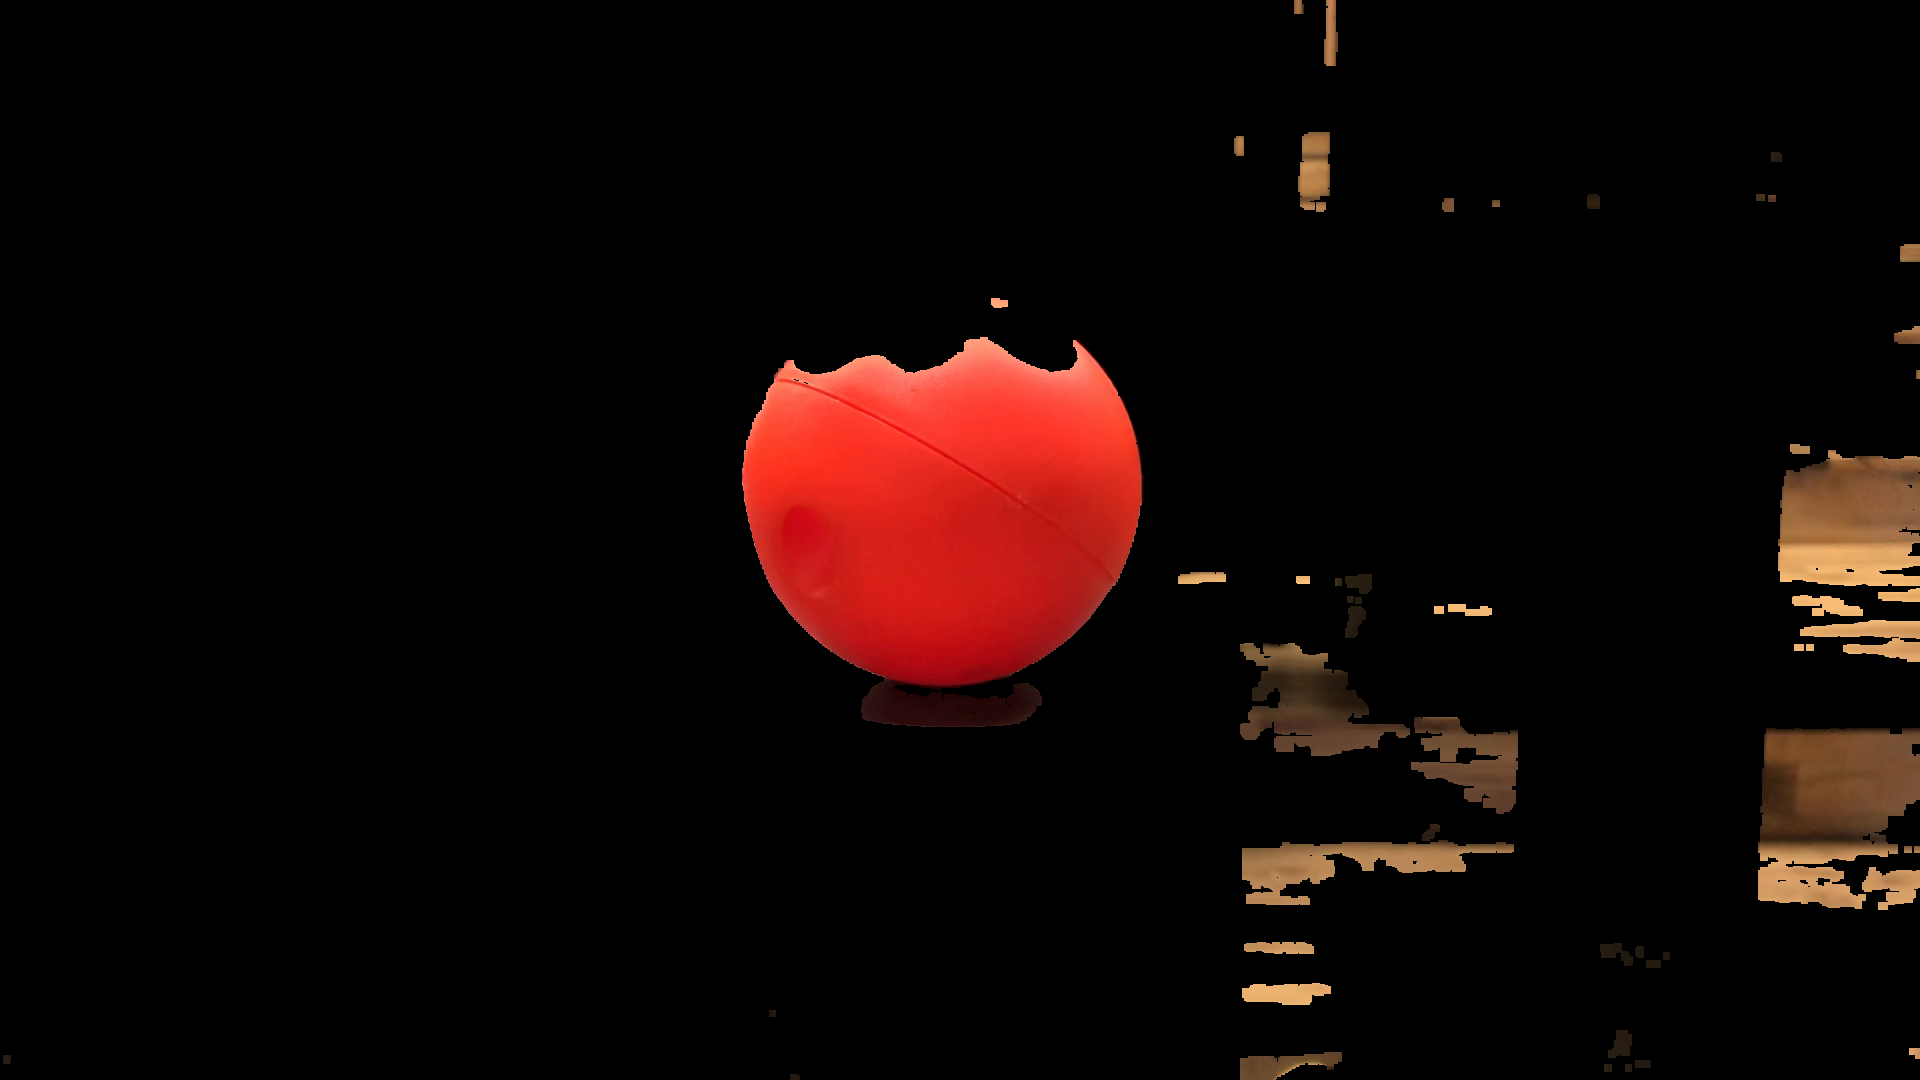Ball: (754, 287, 1146, 680)
